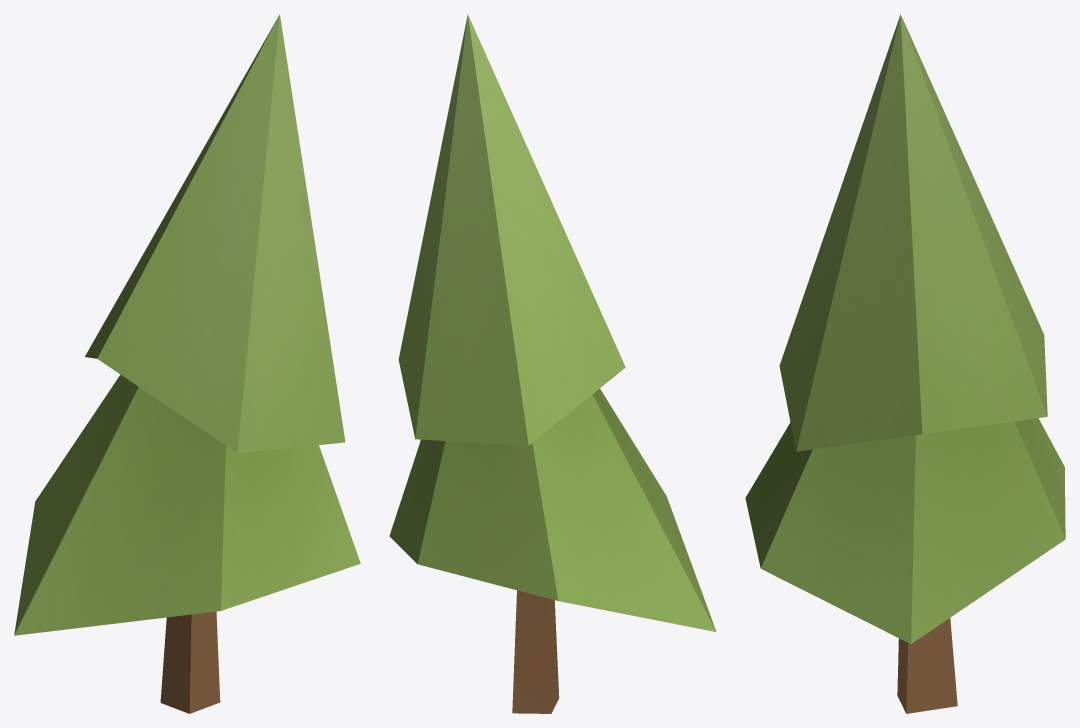
The model's file is pine-tree-s-09.glb.
3 renders of one model, left to right at view 1: azimuth 30°, elevation 25°; view 2: azimuth 150°, elevation 25°; view 3: azimuth 270°, elevation 25°, orthographic. The views are drawn at different scales.
Parts seen in each view (by area): view 1: Pine_Tree_s_09; view 2: Pine_Tree_s_09; view 3: Pine_Tree_s_09.
Boxes of the visible parts, x1,y1,x2,y2 form: Pine_Tree_s_09: [14, 14, 360, 713]; Pine_Tree_s_09: [389, 14, 716, 713]; Pine_Tree_s_09: [745, 14, 1065, 713].
Bounding box in the file's own units: 0.8048 × 1.55 × 0.6175.
1 material, 1 textured.
